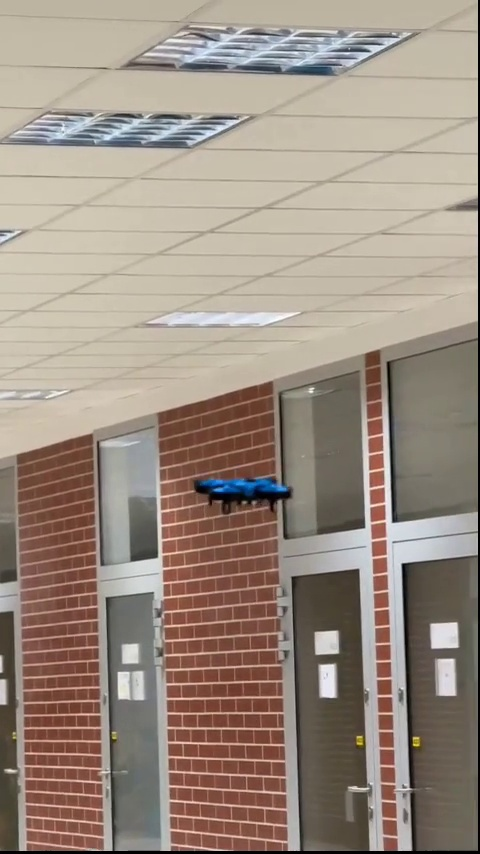drone: (196, 472, 291, 519)
